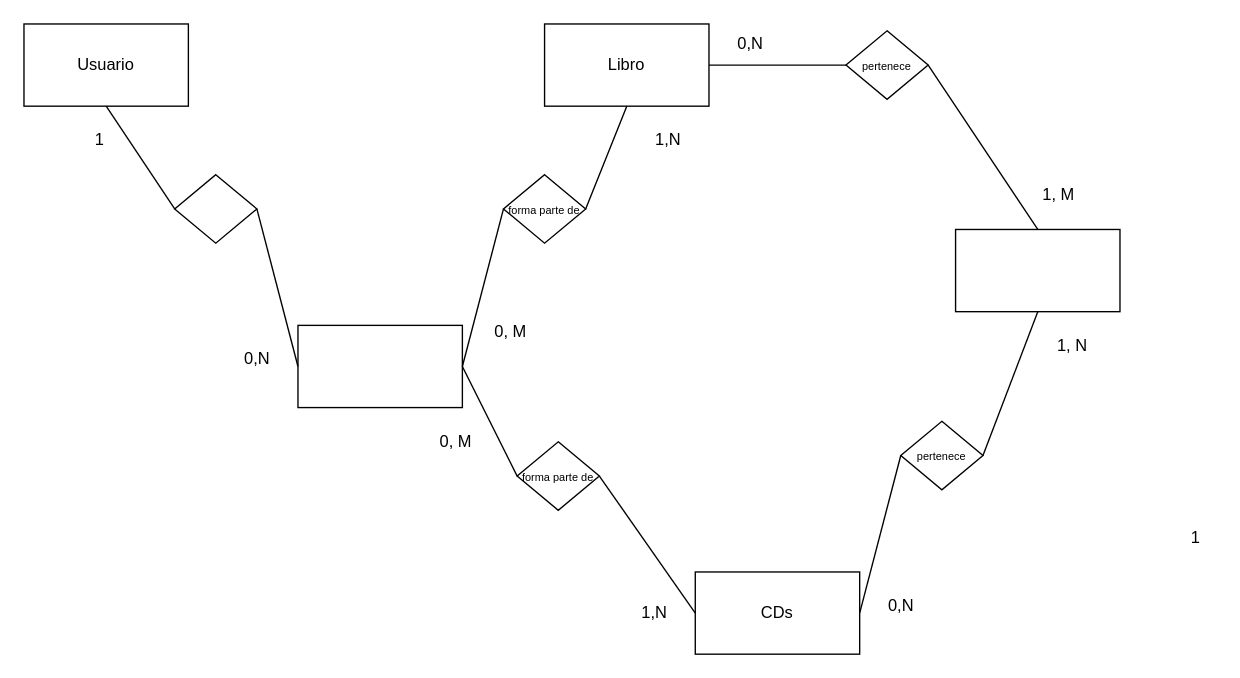
This 1240x678 diagram has some shape labels left out. Here are the shapes that lost their labels. From the top down, the box of each, then its label:
(173, 173, 257, 243): realiza
(954, 228, 1120, 312): Género
(297, 324, 462, 408): Préstamo
